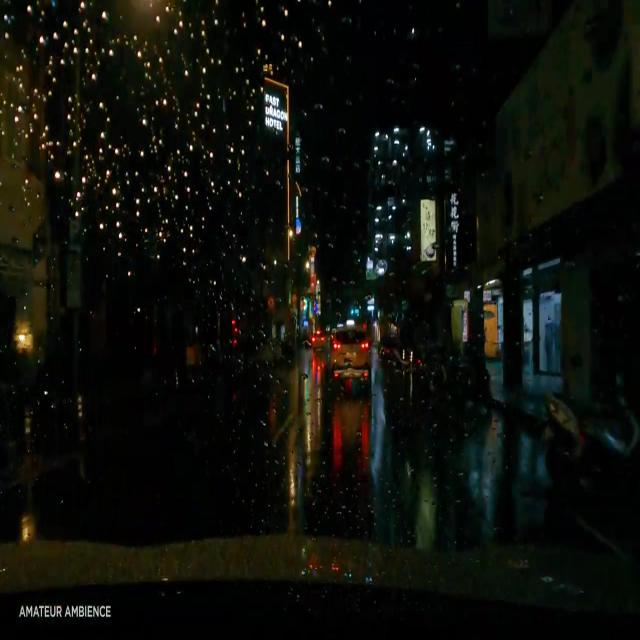Car: (331, 321, 372, 386), (310, 330, 323, 353)
